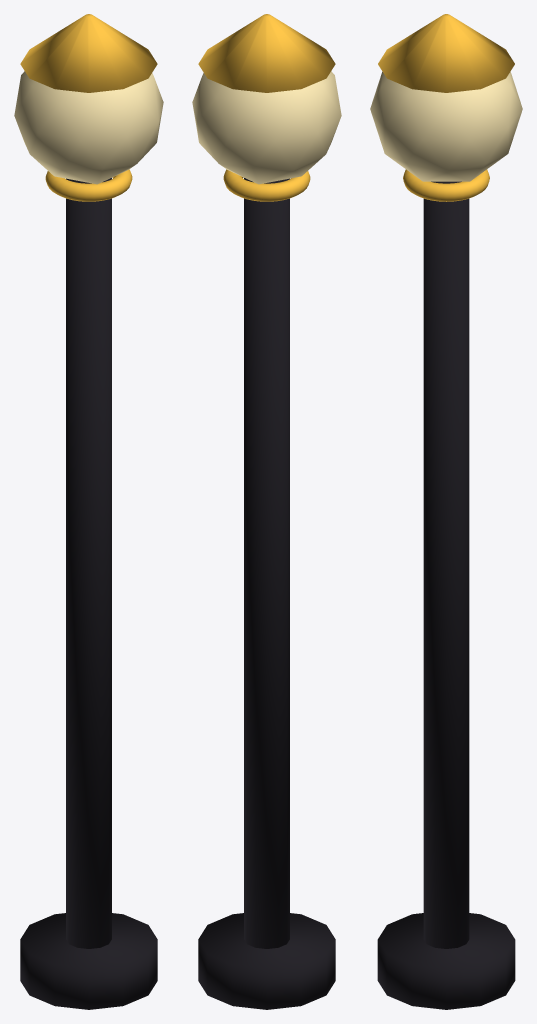
Rendered from Lamp.fbx.
3 renders of one model, left to right at view 1: azimuth 30°, elevation 25°; view 2: azimuth 150°, elevation 25°; view 3: azimuth 270°, elevation 25°, orthographic.
Visible parts, largest first — view 1: Dark_Pole, Glow_Globe, Dark_Base, Gold_Cap, Gold_Collar; view 2: Dark_Pole, Glow_Globe, Dark_Base, Gold_Cap, Gold_Collar; view 3: Dark_Pole, Glow_Globe, Dark_Base, Gold_Cap, Gold_Collar.
Part boxes in pixels (box(x1,y1,x2,y2)): Dark_Pole: box(66, 178, 111, 948); Glow_Globe: box(14, 71, 163, 184); Dark_Base: box(20, 913, 157, 1009); Gold_Cap: box(20, 14, 157, 92); Gold_Collar: box(45, 169, 132, 201); Dark_Pole: box(244, 178, 289, 948); Glow_Globe: box(192, 71, 341, 184); Dark_Base: box(198, 913, 335, 1009); Gold_Cap: box(198, 14, 335, 92); Gold_Collar: box(223, 169, 310, 201); Dark_Pole: box(423, 181, 469, 948); Glow_Globe: box(370, 71, 522, 181); Dark_Base: box(377, 913, 515, 1009); Gold_Cap: box(378, 14, 514, 92); Gold_Collar: box(403, 169, 489, 201).
Bounding box in the file's own units: 1.9 × 13.95 × 2.
